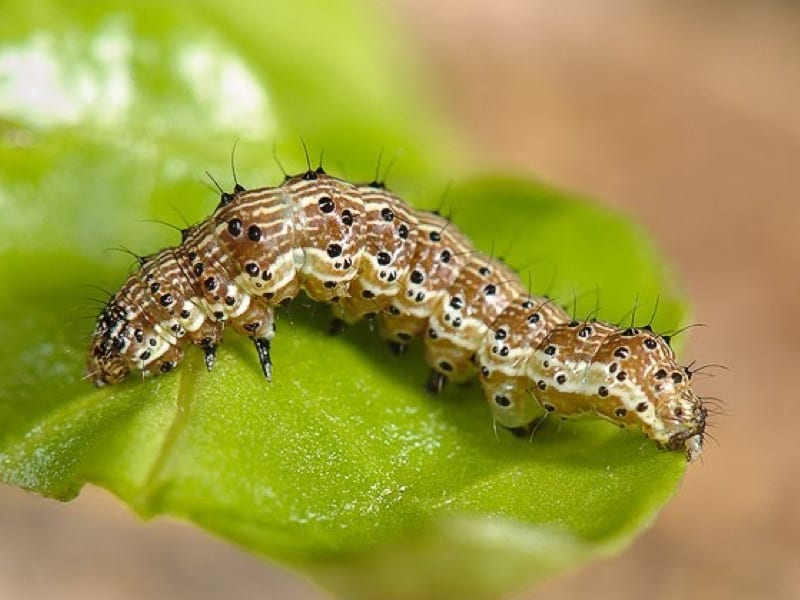Caterpillar: (85, 142, 707, 465)
